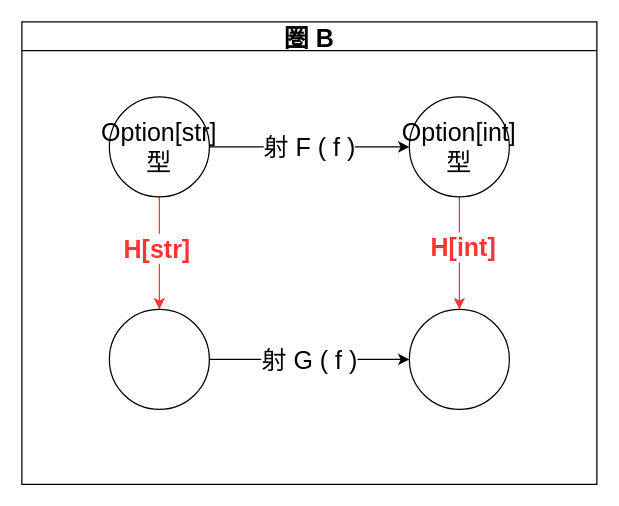
This 619x506 diagram has some shape labels left out. The shapes that lost their labels are listed below. From the top down, each one's centre as x and y in pixels, then its label:
At (x=158, y=358): "List[str] 型".
At (x=458, y=358): "List[int] 型".
